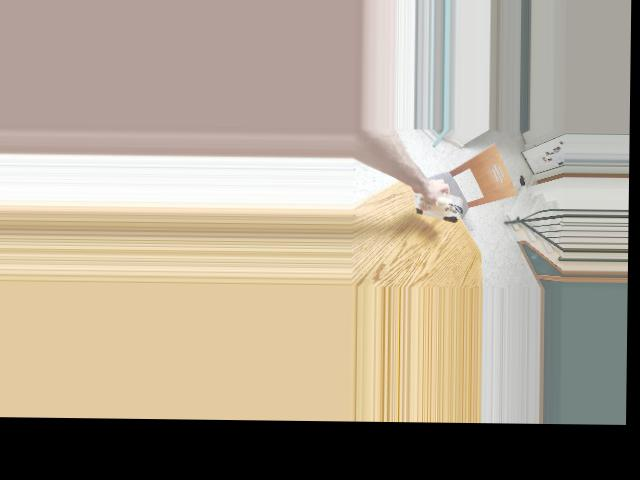cheese: (413, 190, 461, 222)
